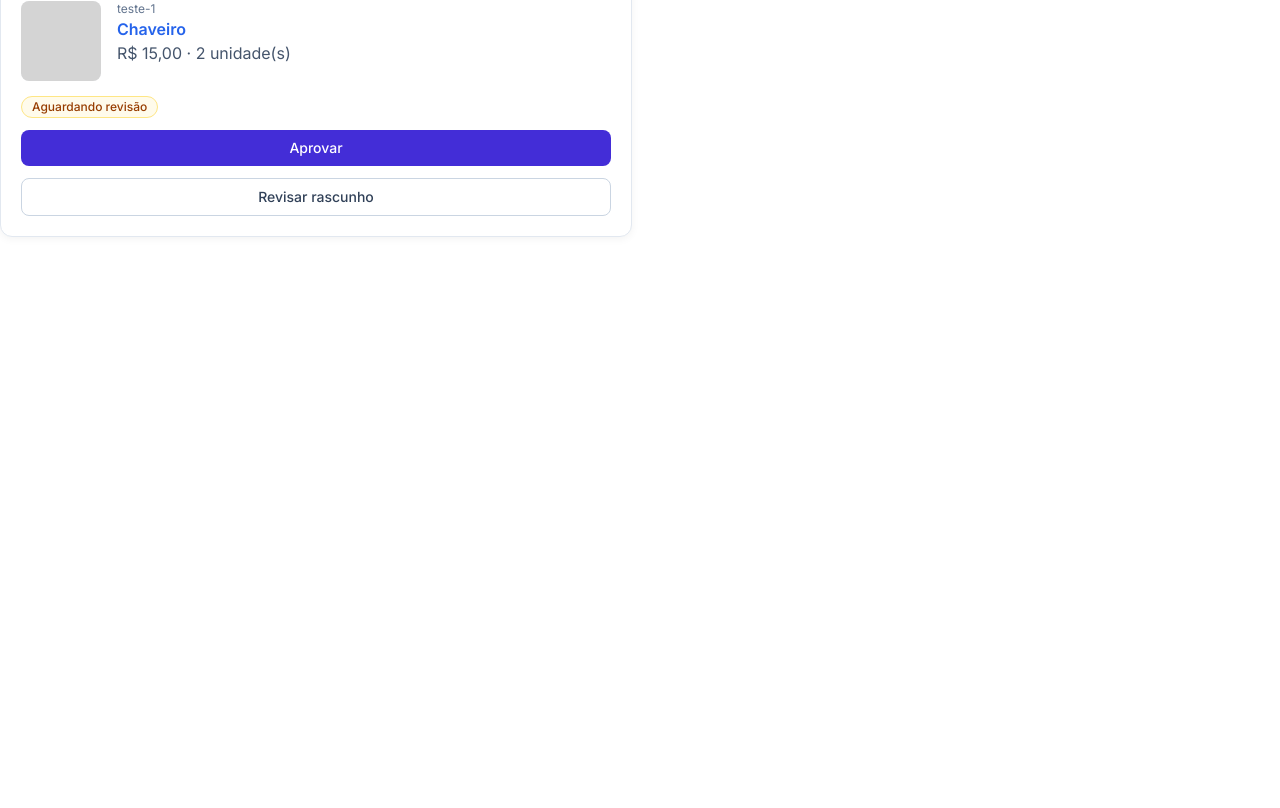
Test: alterações bloqueiam aprovação/publicação até salvar; leitor não aprova
Later steps or results of the test are not shown.
Click the button "Revisar rascunho". click: (316, 197)
box: [21,178,611,216]
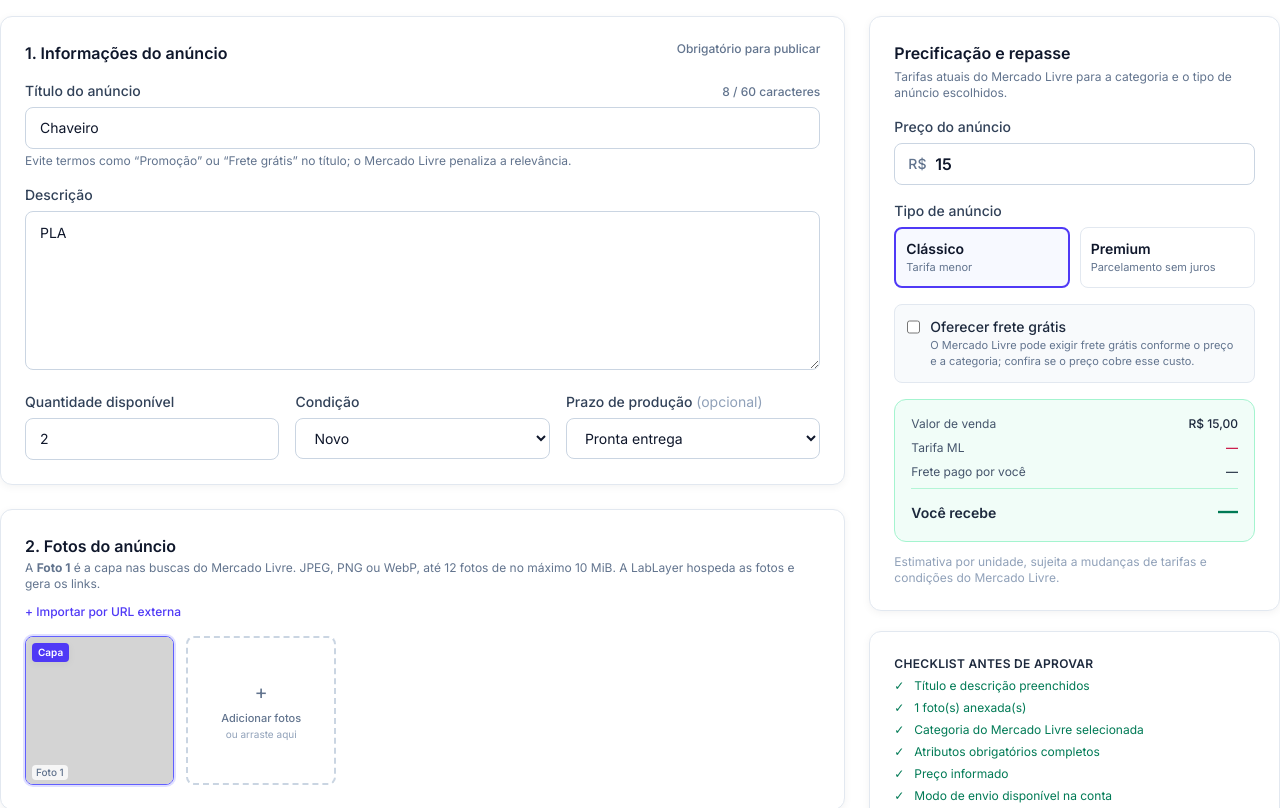
Replace the text in the number field named "Preço (R$)" with "19". click: (1075, 164)
box: [894,143,1255,185]
(page scrolled)
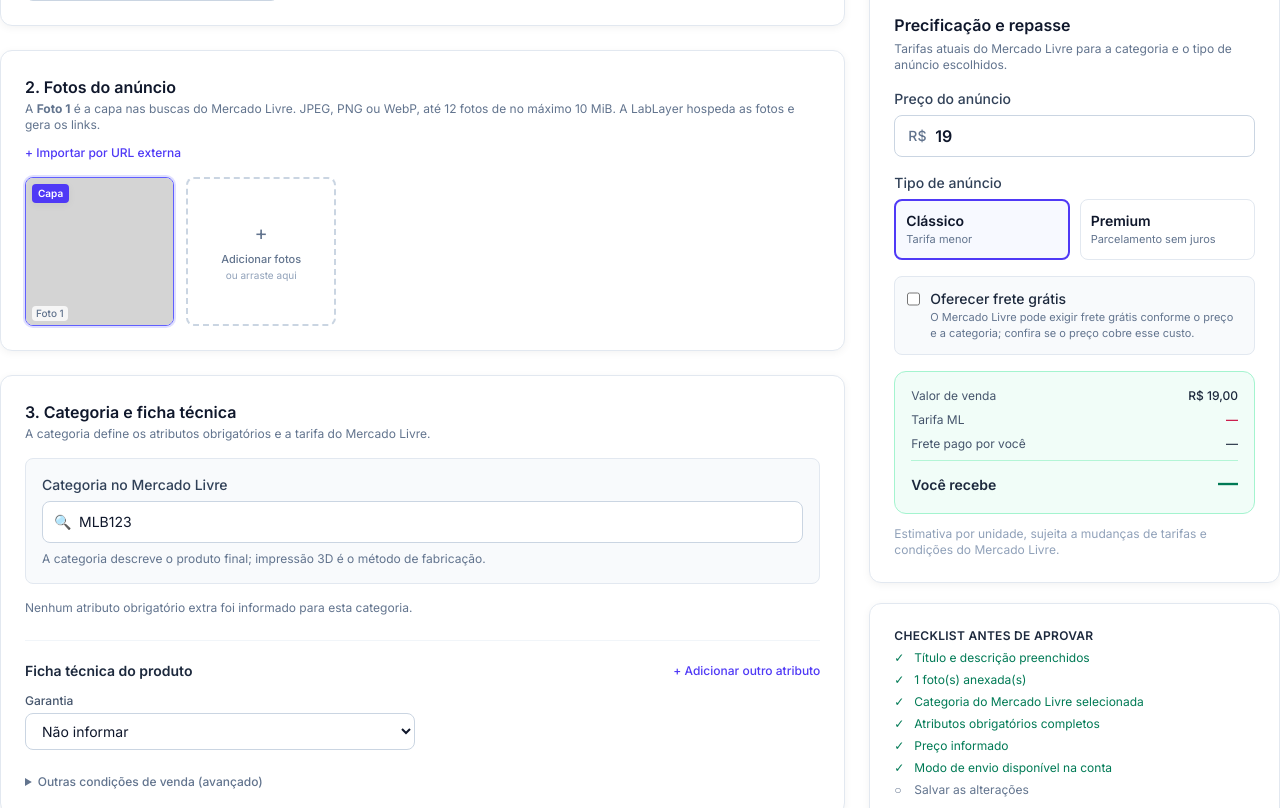
Now the text "Salvar as alterações" is shown, box [914,782,1029,798]
